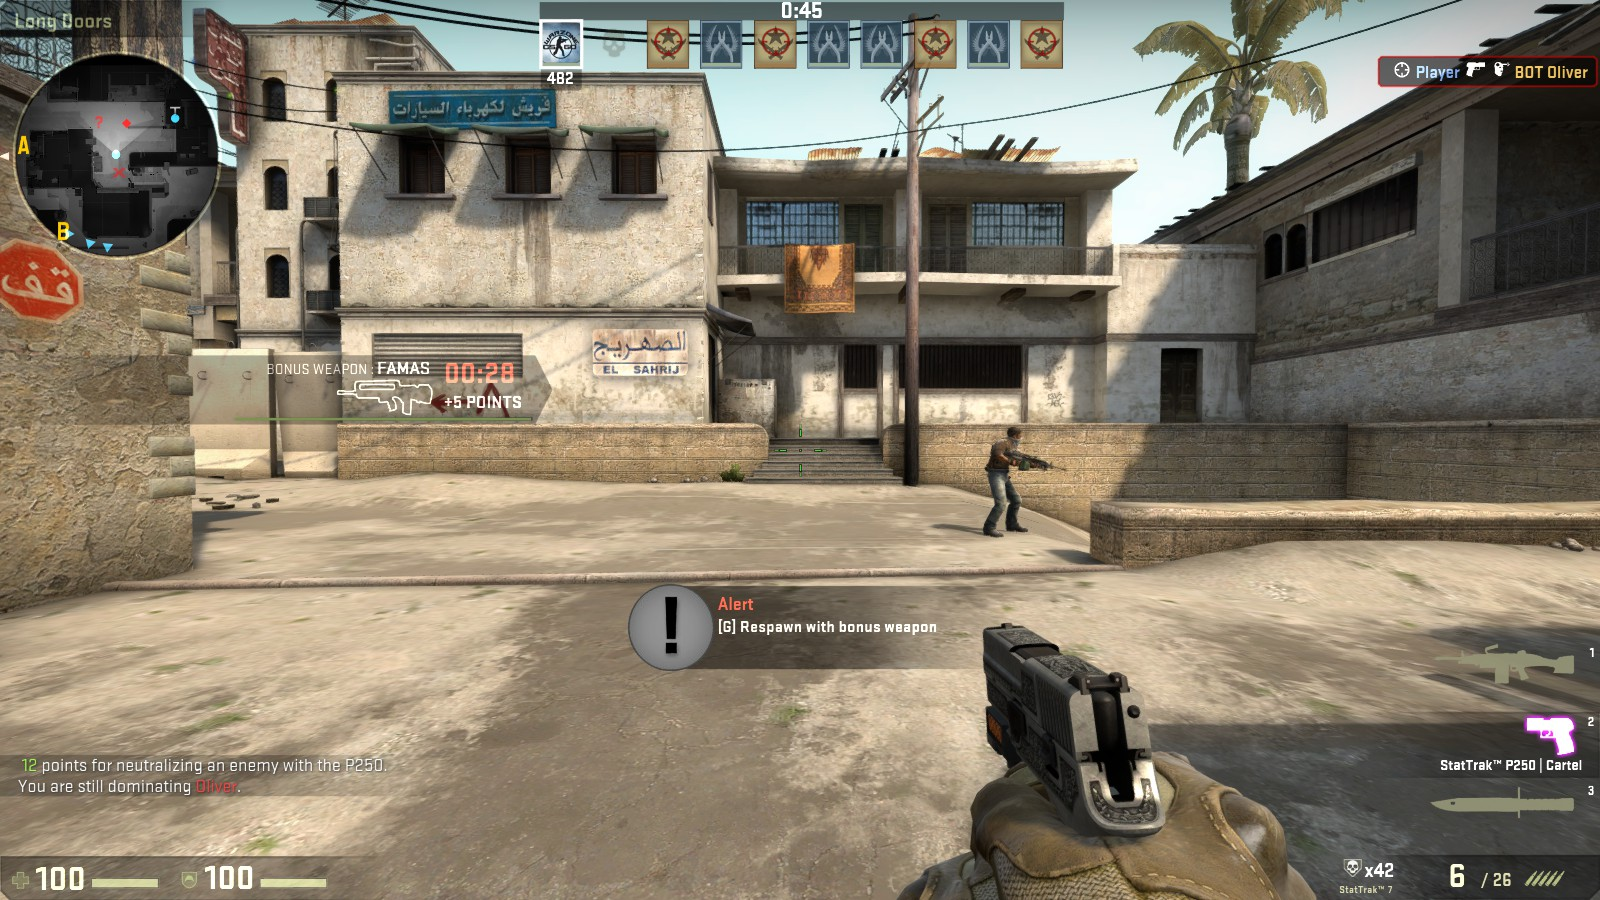t: (987, 421, 1025, 534)
th: (1005, 424, 1023, 449)
